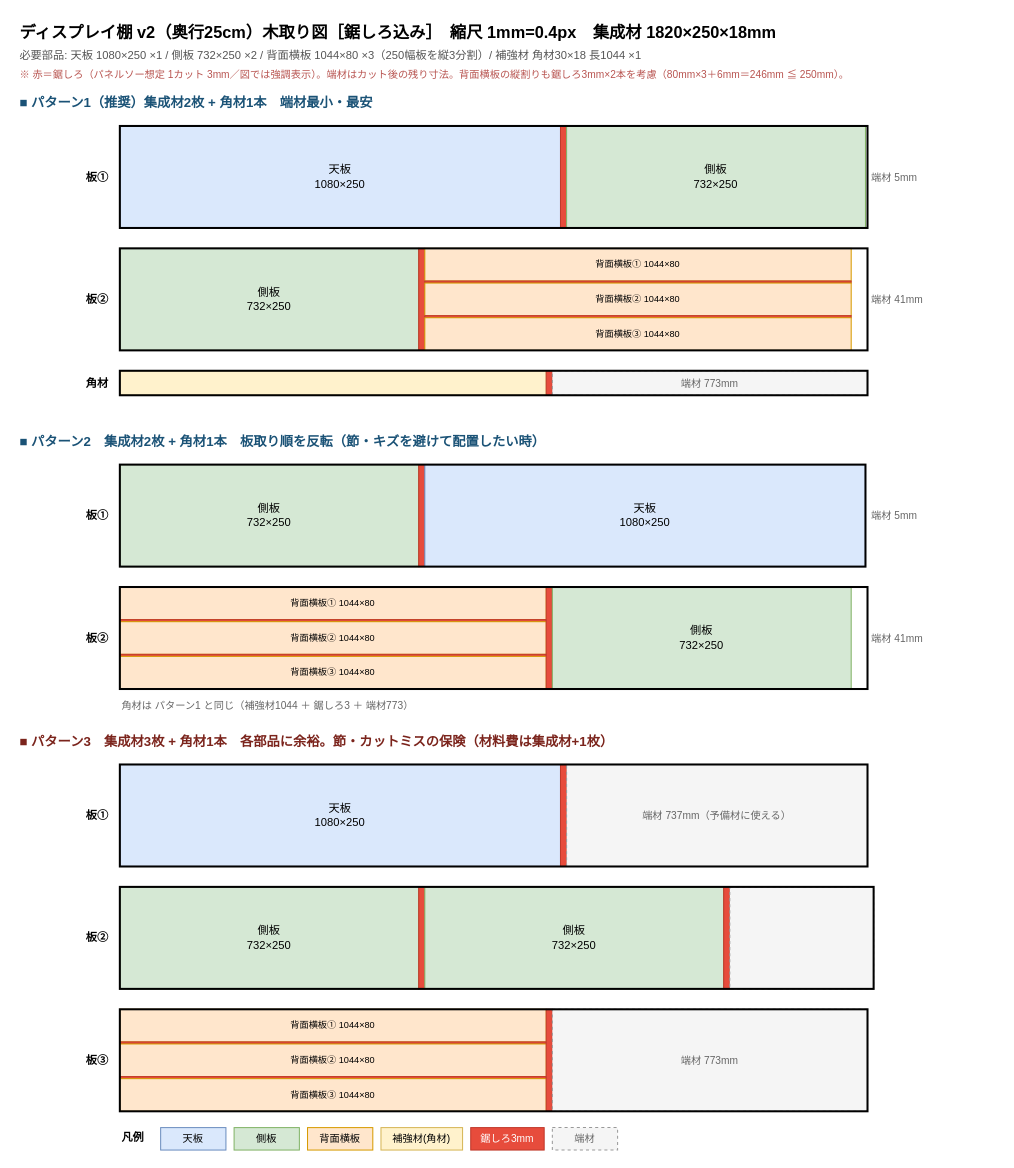
Some shapes in this 1014 by 1168 pixel diagram are drawn without their labels. The box of each missing label's shape, as (x1, y1, x2, y2) in pixels:
端材 353mm: (729, 886, 874, 989)
補強材 角材30×18 長1044: (119, 370, 546, 395)
